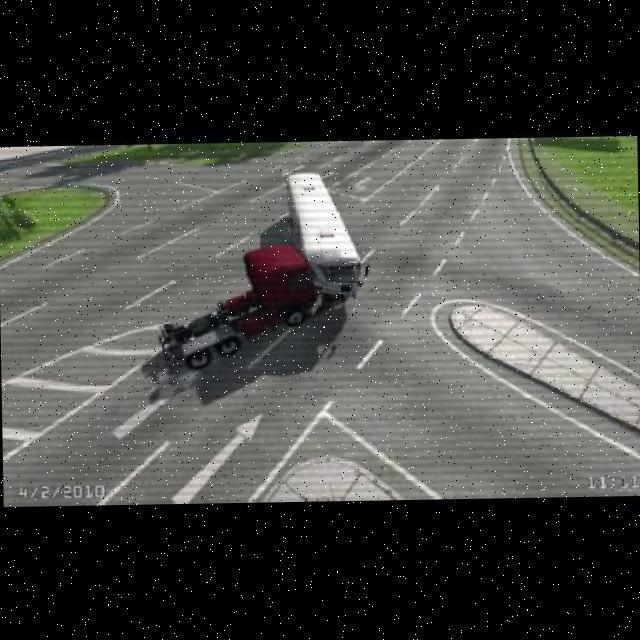accident: (262, 244, 365, 318)
